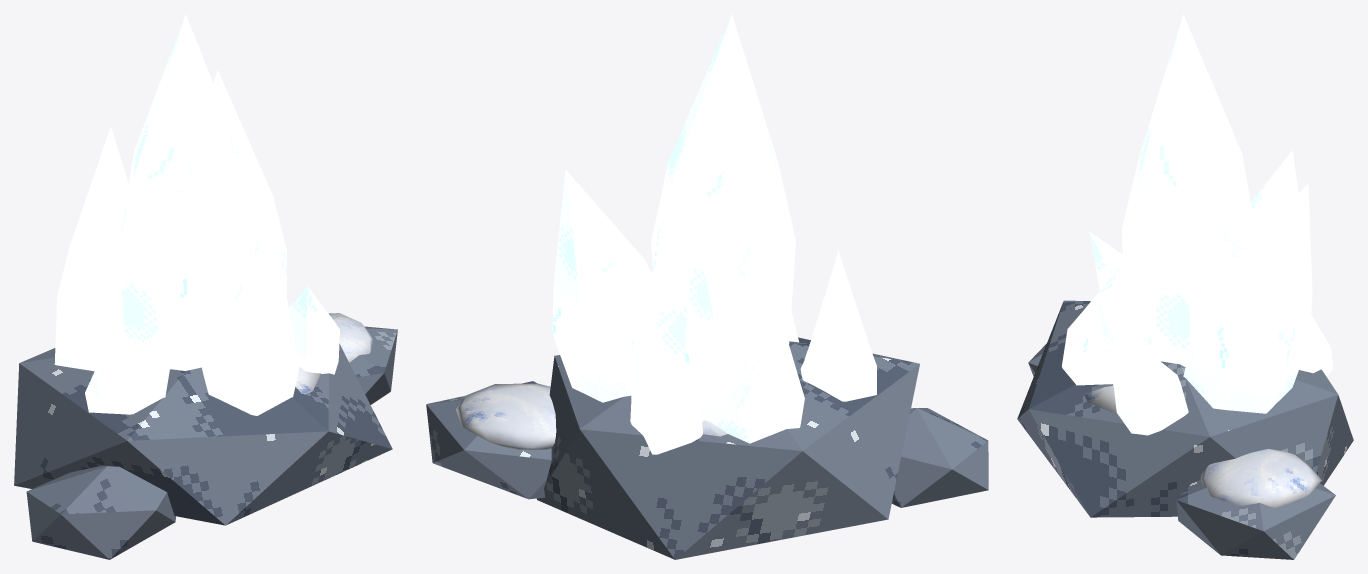
The model's file is frost_crystal.glb.
3 renders of one model, left to right at view 1: azimuth 30°, elevation 25°; view 2: azimuth 150°, elevation 25°; view 3: azimuth 270°, elevation 25°, orthographic. The views are drawn at different scales.
Visible parts, largest first — view 1: Crystal, Base; view 2: Crystal, Base; view 3: Crystal, Base.
Boxes of the visible parts, left/top/right/bottom form: Crystal: left=54, top=14, right=339, bottom=415; Base: left=14, top=313, right=397, bottom=559; Crystal: left=552, top=14, right=876, bottom=454; Base: left=426, top=337, right=988, bottom=559; Crystal: left=1061, top=14, right=1332, bottom=435; Base: left=1017, top=300, right=1353, bottom=559.
Bounding box in the file's own units: 3.74 × 3.65 × 2.47.
Materials: 3 (3 with a texture image).
